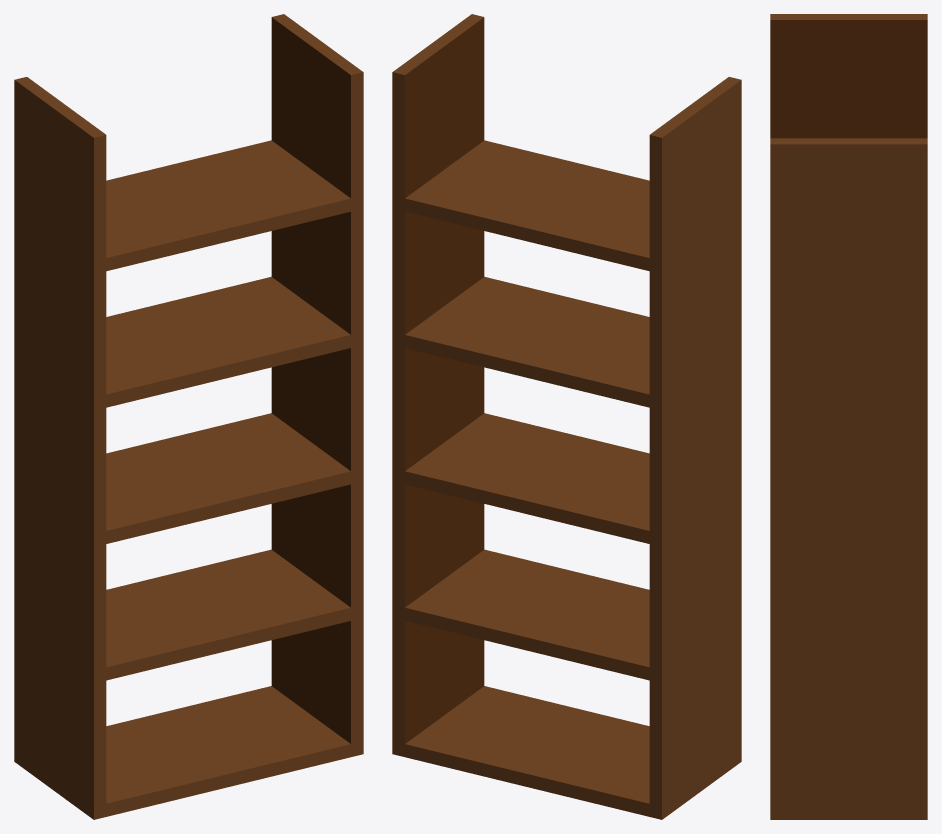
Rendered from Shelf1.fbx.
The picture shows the model from 3 angles, left to right: view 1: azimuth 30°, elevation 25°; view 2: azimuth 150°, elevation 25°; view 3: azimuth 270°, elevation 25°; orthographic projection.
Parts seen in each view (by area): view 1: Prop_Shelve_09; view 2: Prop_Shelve_09; view 3: Prop_Shelve_09.
Part boxes in pixels (left/top/right/bottom): Prop_Shelve_09: left=14, top=14, right=363, bottom=819; Prop_Shelve_09: left=392, top=14, right=741, bottom=819; Prop_Shelve_09: left=770, top=14, right=927, bottom=819.
Bounding box in the file's own units: 78.98 × 191 × 40.32.
Materials: 1 (1 with a texture image).
